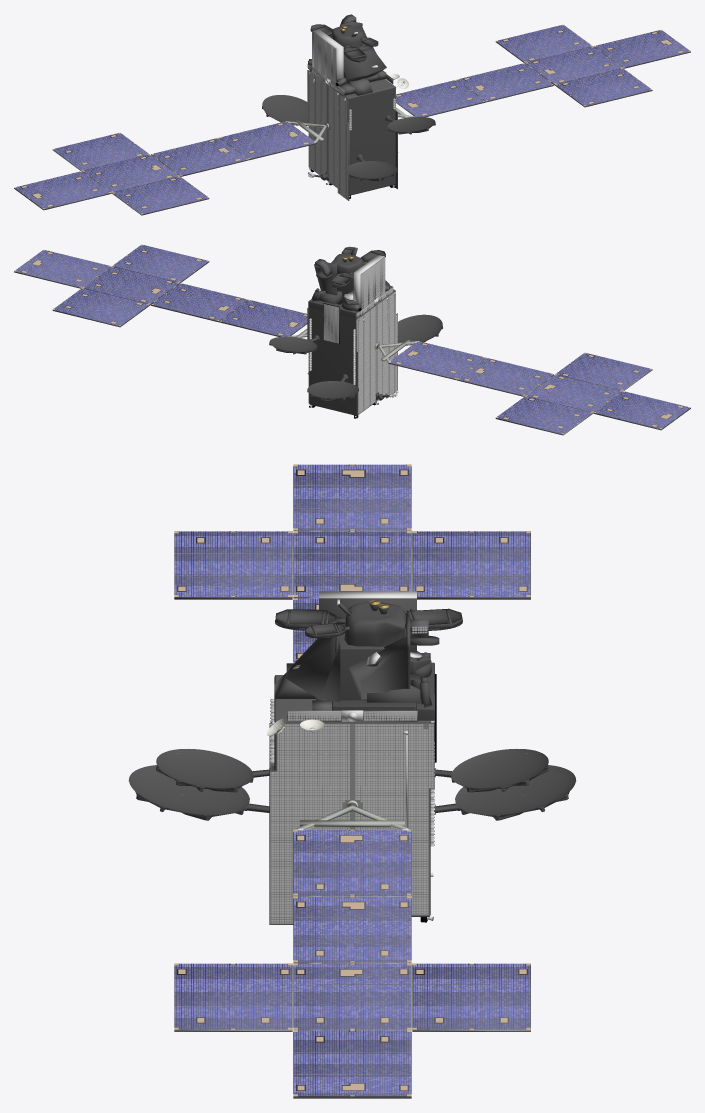
Rendered from space-systems-loral-ssl-1300.glb.
3 renders of one model, top to bottom at view 1: azimuth 30°, elevation 25°; view 2: azimuth 150°, elevation 25°; view 3: azimuth 270°, elevation 25°, orthographic. The views are drawn at different scales.
Parts seen in each view (by area): view 1: Empty_Mesh; view 2: Empty_Mesh; view 3: Empty_Mesh.
Boxes of the visible parts, box(x1,y1,x2,y2) form: Empty_Mesh: box(14, 14, 690, 215); Empty_Mesh: box(14, 244, 690, 435); Empty_Mesh: box(128, 464, 576, 1098).
Size of the model in its own units: 268 by 61.25 by 80.36.
1 material, 1 textured.
